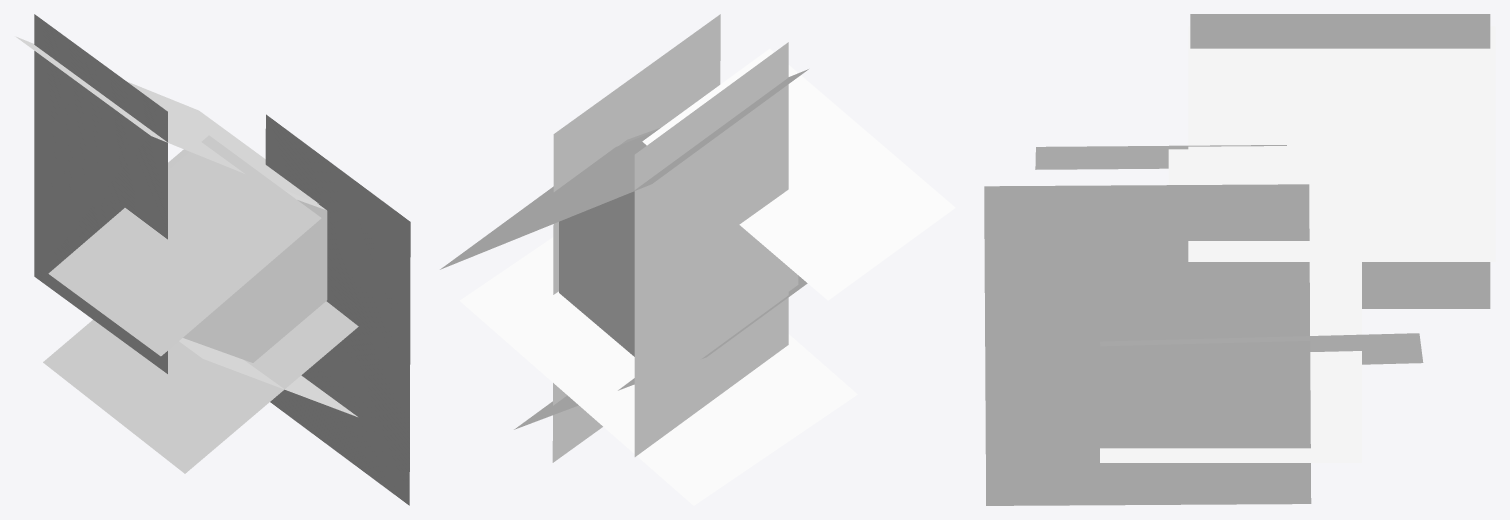
File: Rodacerta2.glb
3 renders of one model, left to right at view 1: azimuth 30°, elevation 25°; view 2: azimuth 150°, elevation 25°; view 3: azimuth 270°, elevation 25°, orthographic. The views are drawn at different scales.
Parts seen in each view (by area): view 1: Cylinder; view 2: Cylinder; view 3: Cylinder.
Boxes of the visible parts, bbox=[...] form: Cylinder: bbox=[15, 14, 410, 505]; Cylinder: bbox=[440, 14, 955, 505]; Cylinder: bbox=[984, 14, 1495, 505].
Size of the model in its own units: 2.13 by 2.85 by 3.22.
Materials: 7 (6 with a texture image).
